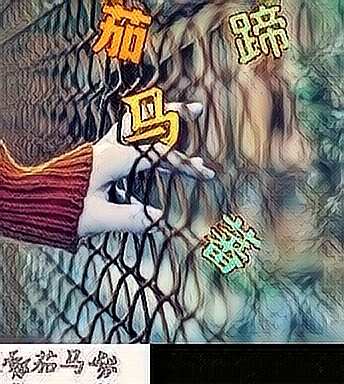C2ED: (119, 88, 183, 154)
C7D1: (90, 4, 154, 70)
CCE3: (227, 4, 291, 70)
DEAC: (198, 210, 262, 276)
